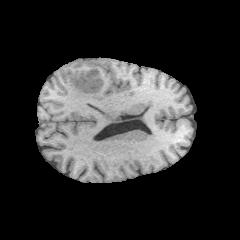glioma: (69, 67, 121, 104)
